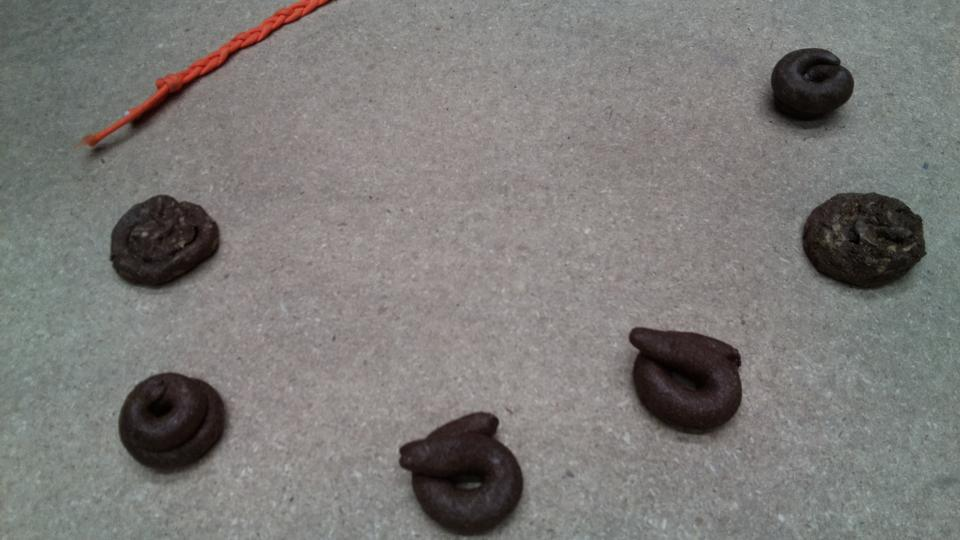poop: (397, 406, 527, 538), (798, 188, 933, 293), (623, 324, 745, 438), (115, 367, 230, 477), (105, 193, 224, 291), (765, 43, 861, 131)
rope: (80, 1, 320, 152)
